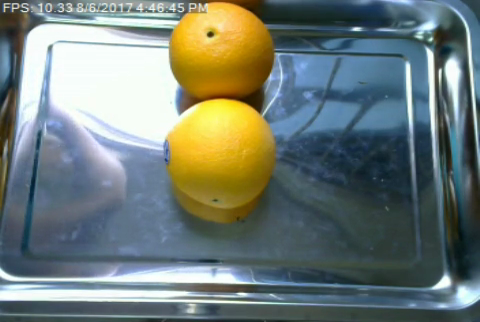Orange: (163, 97, 277, 207), (169, 3, 276, 105)
